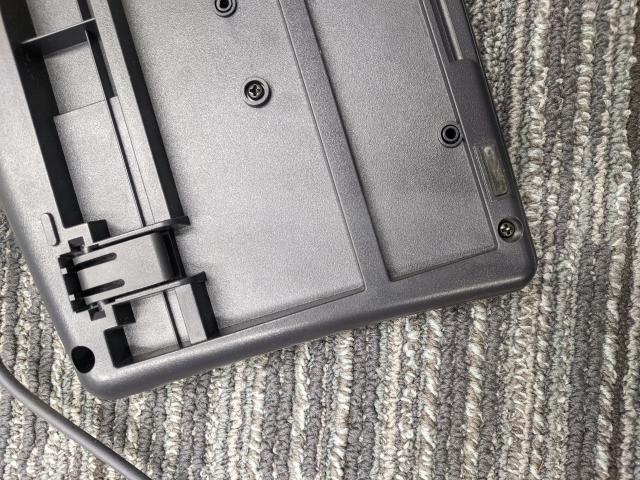CRS: (246, 82, 266, 100), (498, 221, 516, 237)
